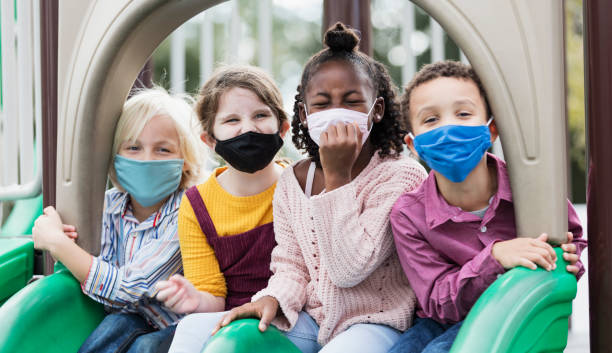with mask: (398, 66, 501, 179), (198, 76, 288, 175), (299, 52, 383, 156), (114, 96, 188, 207)
